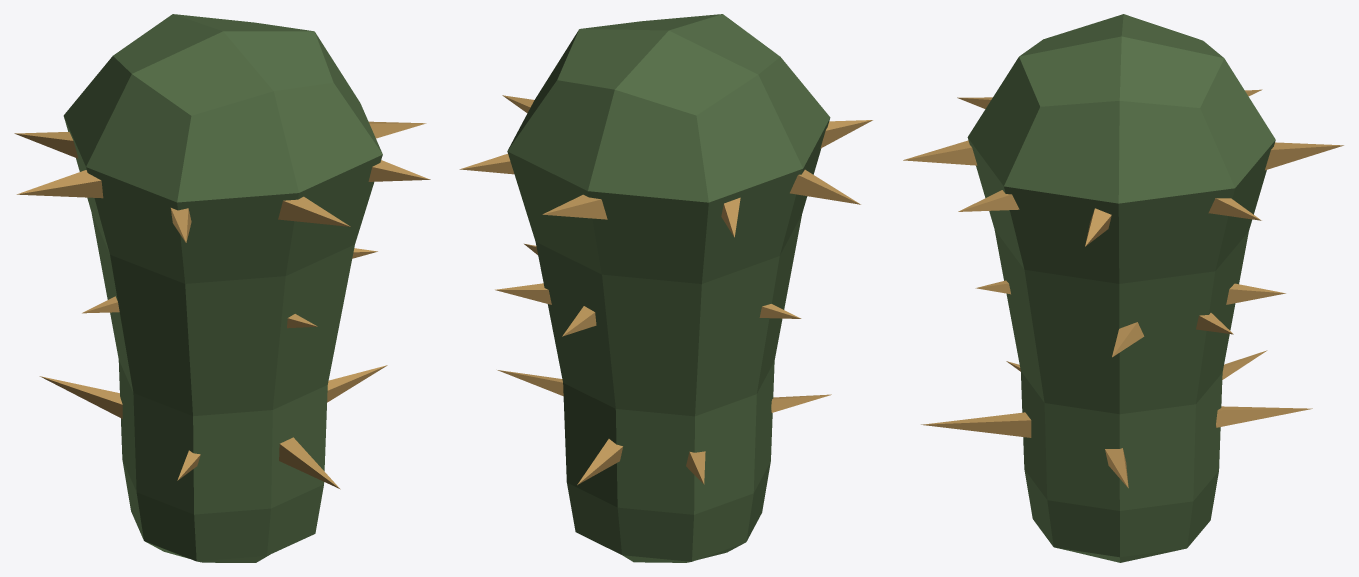
Rendered from Cactus_2.glb.
3 views of the same model, side by side, from view 1: azimuth 30°, elevation 25°; view 2: azimuth 150°, elevation 25°; view 3: azimuth 270°, elevation 25° (orthographic).
Parts seen in each view (by area): view 1: Cactus_2; view 2: Cactus_2; view 3: Cactus_2.
Boxes of the visible parts, x1,y1,x2,y2 form: Cactus_2: (14, 14, 430, 562); Cactus_2: (459, 14, 872, 562); Cactus_2: (903, 14, 1343, 562).
Bounding box in the file's own units: 0.2978 × 0.3779 × 0.3011.
